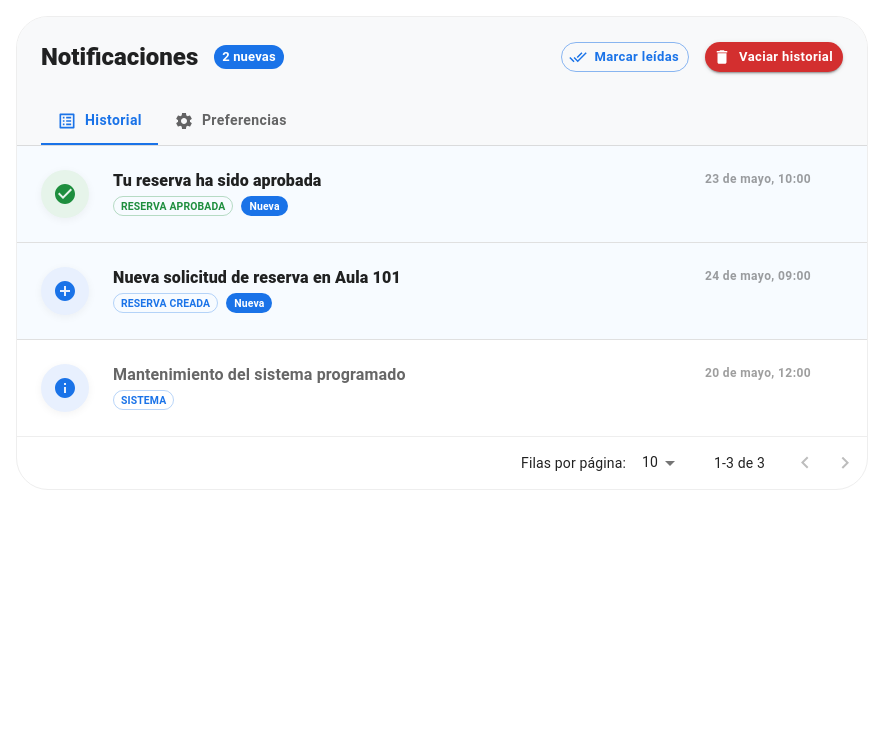
Test: NotificationCenter › debe permitir marcar todas como leídas
The width and height of the screenshot is (885, 750).
Click the button "Marcar leídas": (625, 57) [560, 42, 689, 72]
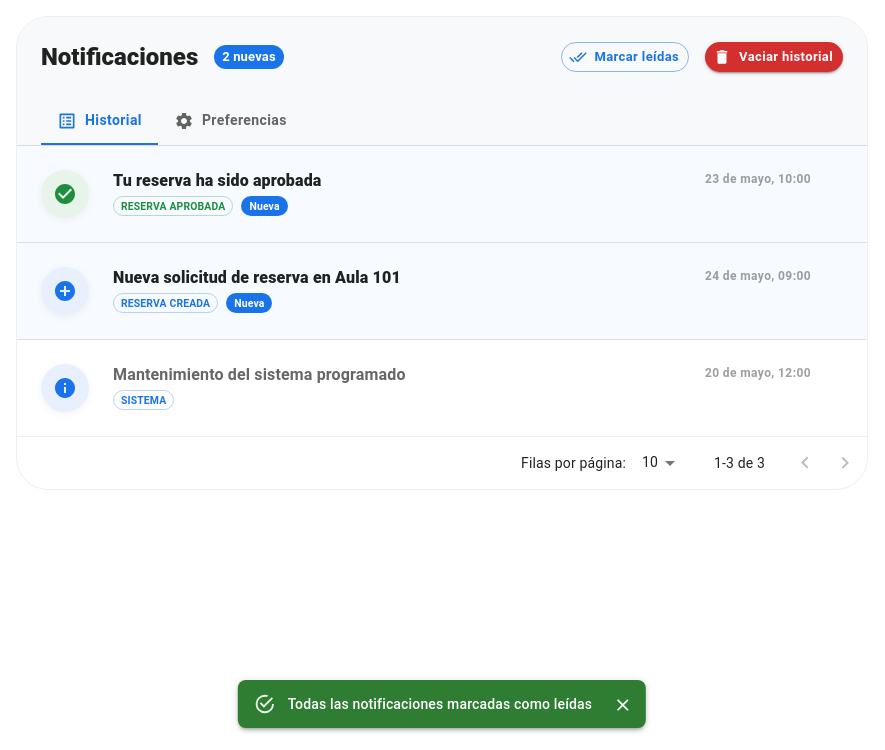
Expected: the text "Todas las notificaciones marcadas como leídas" is shown, [288, 696, 592, 712]
